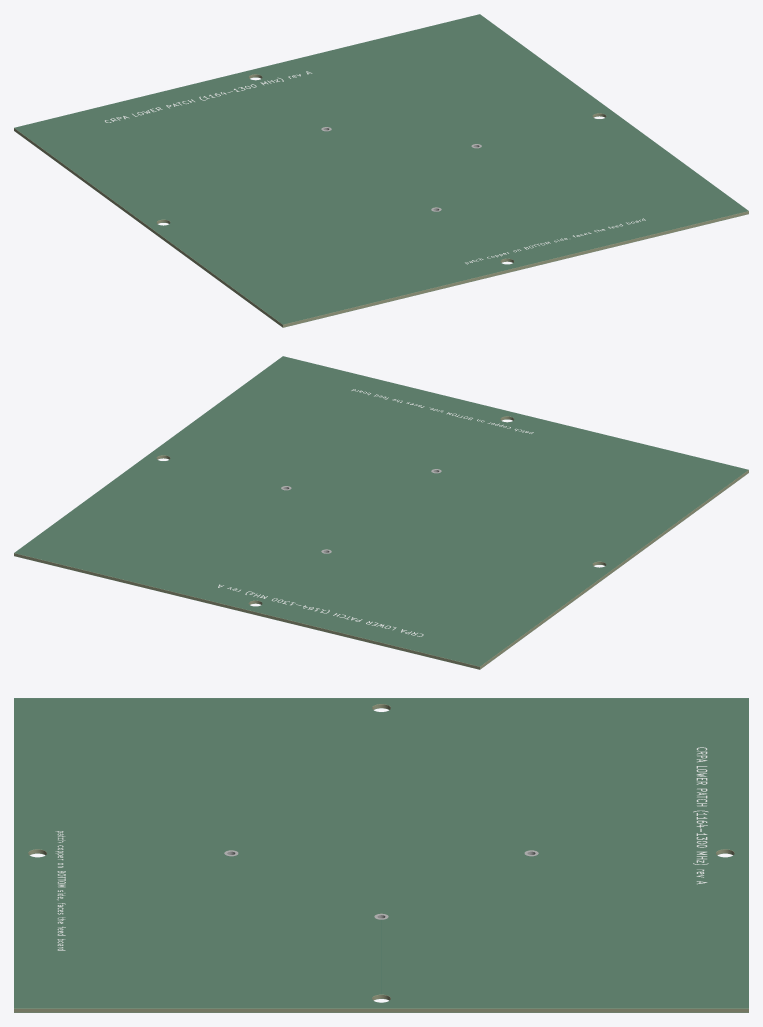
Rendered from patch_lower.glb.
3 views of the same model, one above another, from view 1: azimuth 30°, elevation 25°; view 2: azimuth 150°, elevation 25°; view 3: azimuth 270°, elevation 25° (orthographic). The views are drawn at different scales.
Visible parts, largest first — view 1: =>[0:1:1:7], =>[0:1:1:5], =>[0:1:1:4]; view 2: =>[0:1:1:7], =>[0:1:1:5], =>[0:1:1:4]; view 3: =>[0:1:1:7], =>[0:1:1:5], =>[0:1:1:4], =>[0:1:1:6].
Boxes of the visible parts, x1,y1,x2,y2 form: =>[0:1:1:7]: [14, 15, 748, 327]; =>[0:1:1:5]: [14, 14, 748, 324]; =>[0:1:1:4]: [105, 71, 645, 264]; =>[0:1:1:7]: [14, 357, 748, 669]; =>[0:1:1:5]: [14, 356, 748, 666]; =>[0:1:1:4]: [218, 389, 533, 636]; =>[0:1:1:7]: [14, 699, 748, 1012]; =>[0:1:1:5]: [14, 698, 748, 1008]; =>[0:1:1:4]: [55, 747, 708, 950]; =>[0:1:1:6]: [14, 708, 748, 1012].
Size of the model in its own units: 0.124 by 0.000835 by 0.124.
